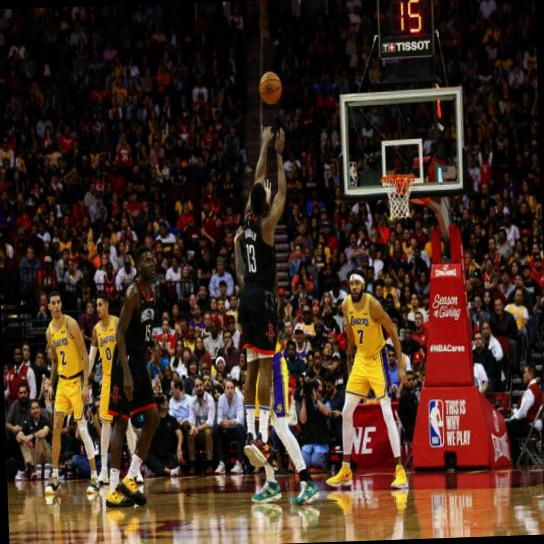basketball-hoop: (381, 172, 416, 224)
